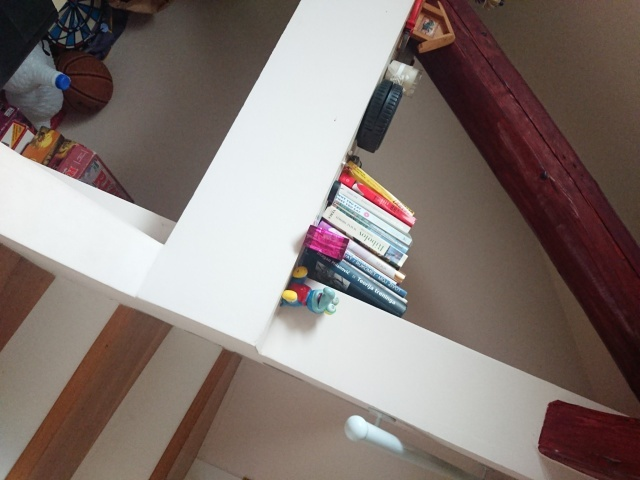Barcaffe Classic Original 225g: (302, 223, 351, 264)
